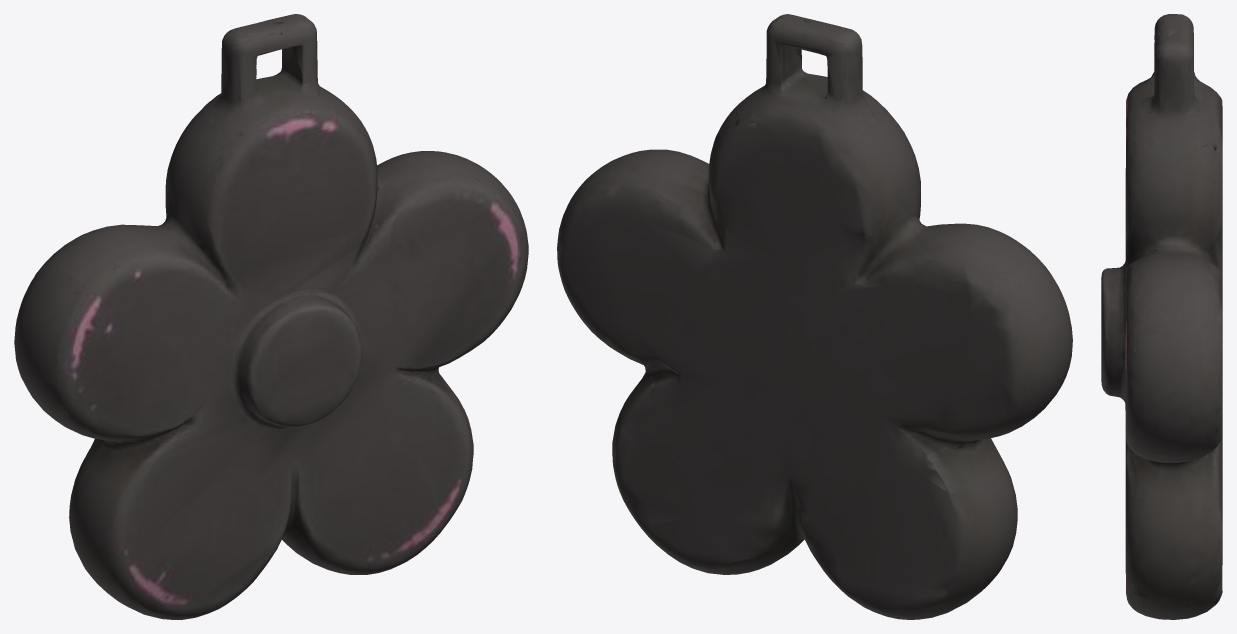
File: piece_charm_flower.glb
3 views of the same model, side by side, from view 1: azimuth 30°, elevation 25°; view 2: azimuth 150°, elevation 25°; view 3: azimuth 270°, elevation 25° (orthographic). The views are drawn at different scales.
Visible parts, largest first — view 1: trait_charm_flower; view 2: trait_charm_flower; view 3: trait_charm_flower.
Boxes of the visible parts, x1=… form: trait_charm_flower: x1=14, y1=14, x2=528, y2=619; trait_charm_flower: x1=557, y1=14, x2=1072, y2=619; trait_charm_flower: x1=1101, y1=14, x2=1222, y2=619.
Bounding box in the file's own units: 0.1572 × 0.1721 × 0.0351.
Materials: 1 (1 with a texture image).
